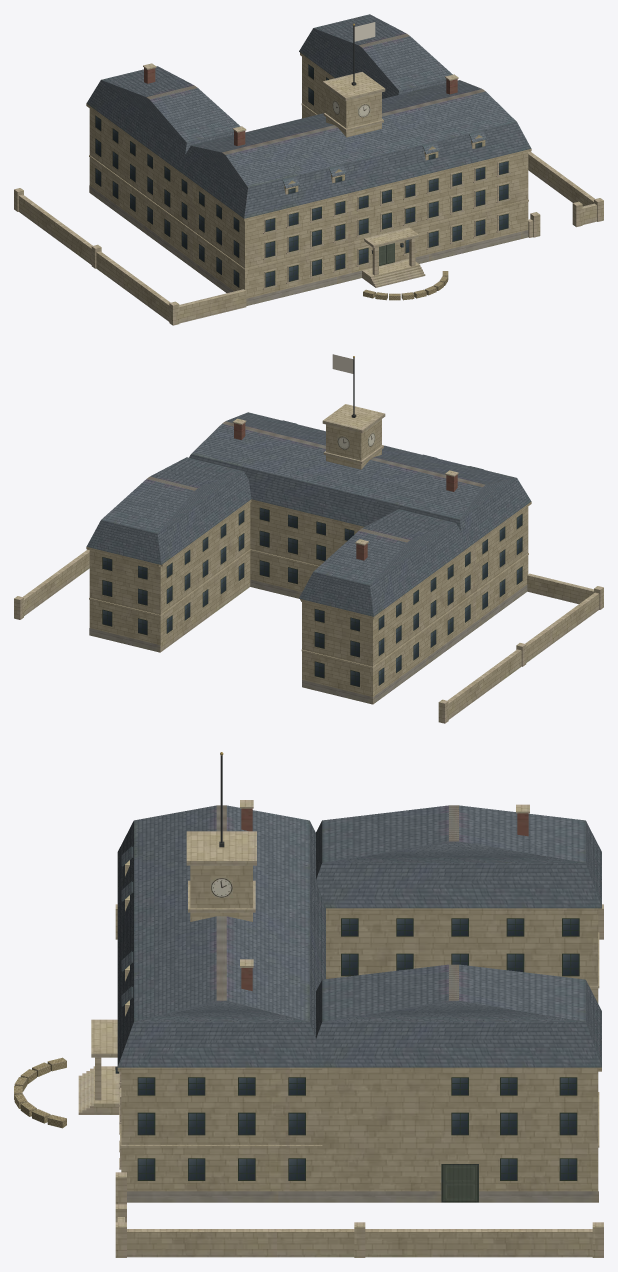
3 views of the same model, one above another, from view 1: azimuth 30°, elevation 25°; view 2: azimuth 150°, elevation 25°; view 3: azimuth 270°, elevation 25° (orthographic). The views are drawn at different scales.
Visible parts, largest first — view 1: corps, cloture, perron; view 2: corps, cloture; view 3: corps, cloture, perron, porte_service.
Boxes of the visible parts, x1,y1,x2,y2 form: corps: (86, 14, 531, 305); cloture: (14, 151, 603, 325); perron: (362, 227, 448, 300); corps: (86, 404, 531, 704); cloture: (14, 549, 603, 723); corps: (117, 800, 601, 1202); cloture: (115, 904, 603, 1257); perron: (14, 1019, 119, 1128); porte_service: (441, 1164, 478, 1202).
Size of the model in its own units: 60.9 by 30.26 by 47.
Materials: 13 (11 with a texture image).
